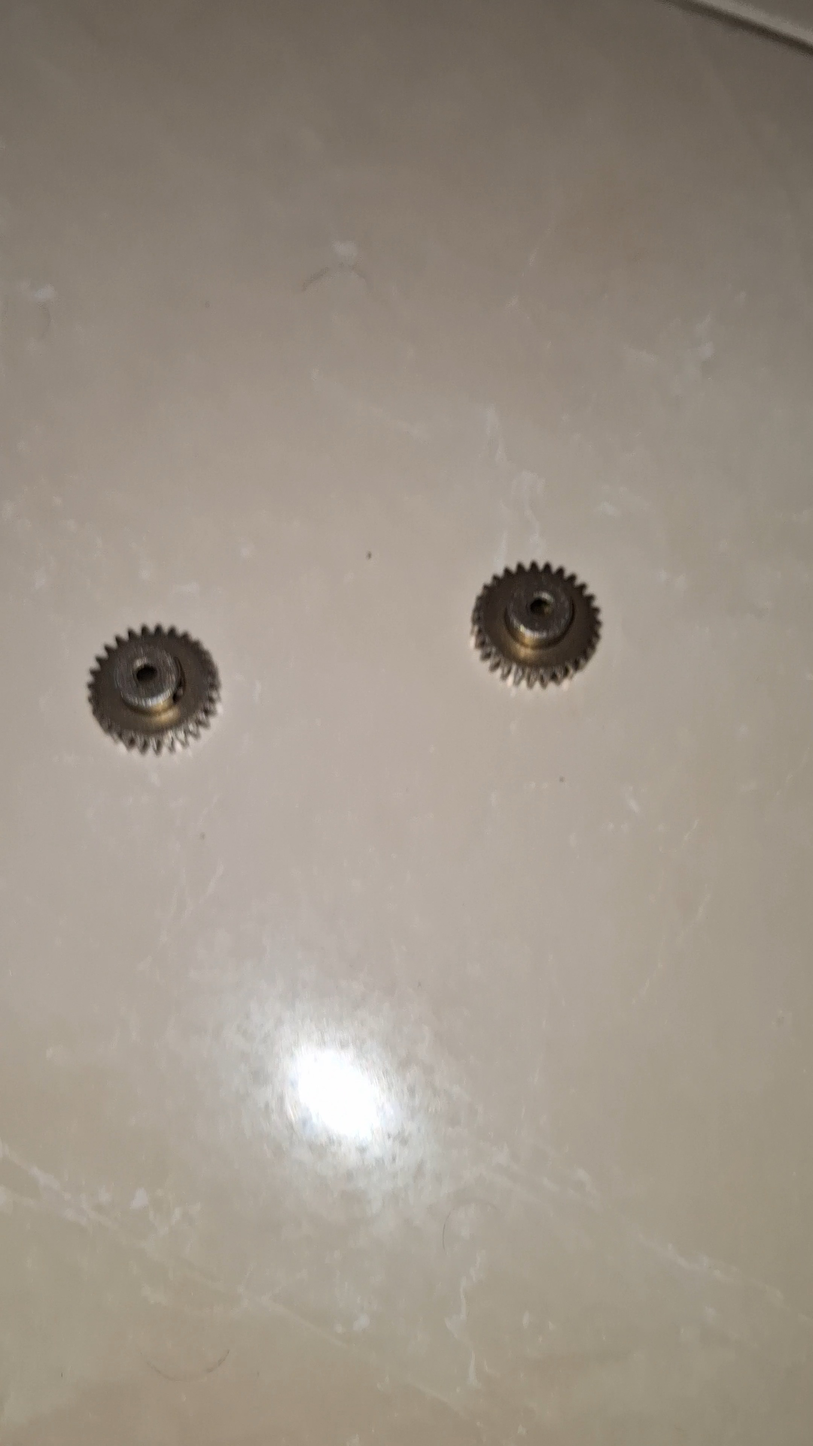spur gear: (89, 626, 219, 752), (472, 563, 600, 686)
